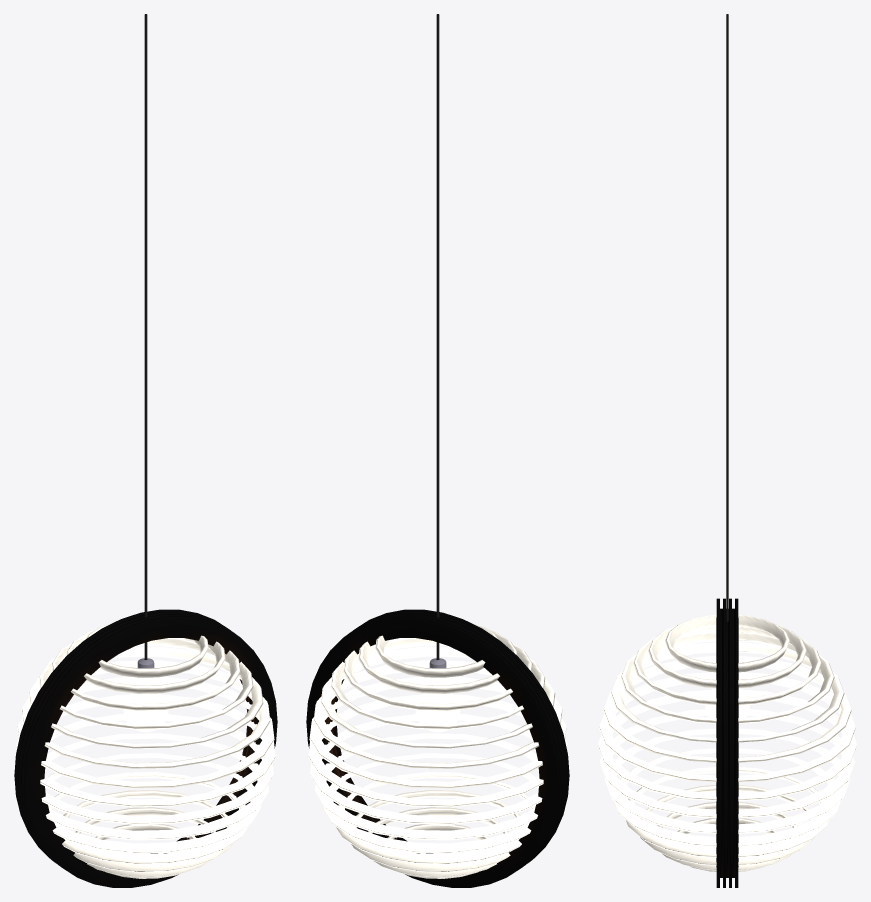
File: lantern.fbx
The picture shows the model from 3 angles, left to right: view 1: azimuth 30°, elevation 25°; view 2: azimuth 150°, elevation 25°; view 3: azimuth 270°, elevation 25°; orthographic projection.
Parts seen in each view (by area): view 1: pSphere5; view 2: pSphere5; view 3: pSphere5.
Boxes of the visible parts, x1,y1,x2,y2 form: pSphere5: (14, 14, 277, 887); pSphere5: (306, 14, 569, 887); pSphere5: (598, 14, 856, 887).
Size of the model in its own units: 43.7 by 143 by 39.06.
1 material, 1 textured.
